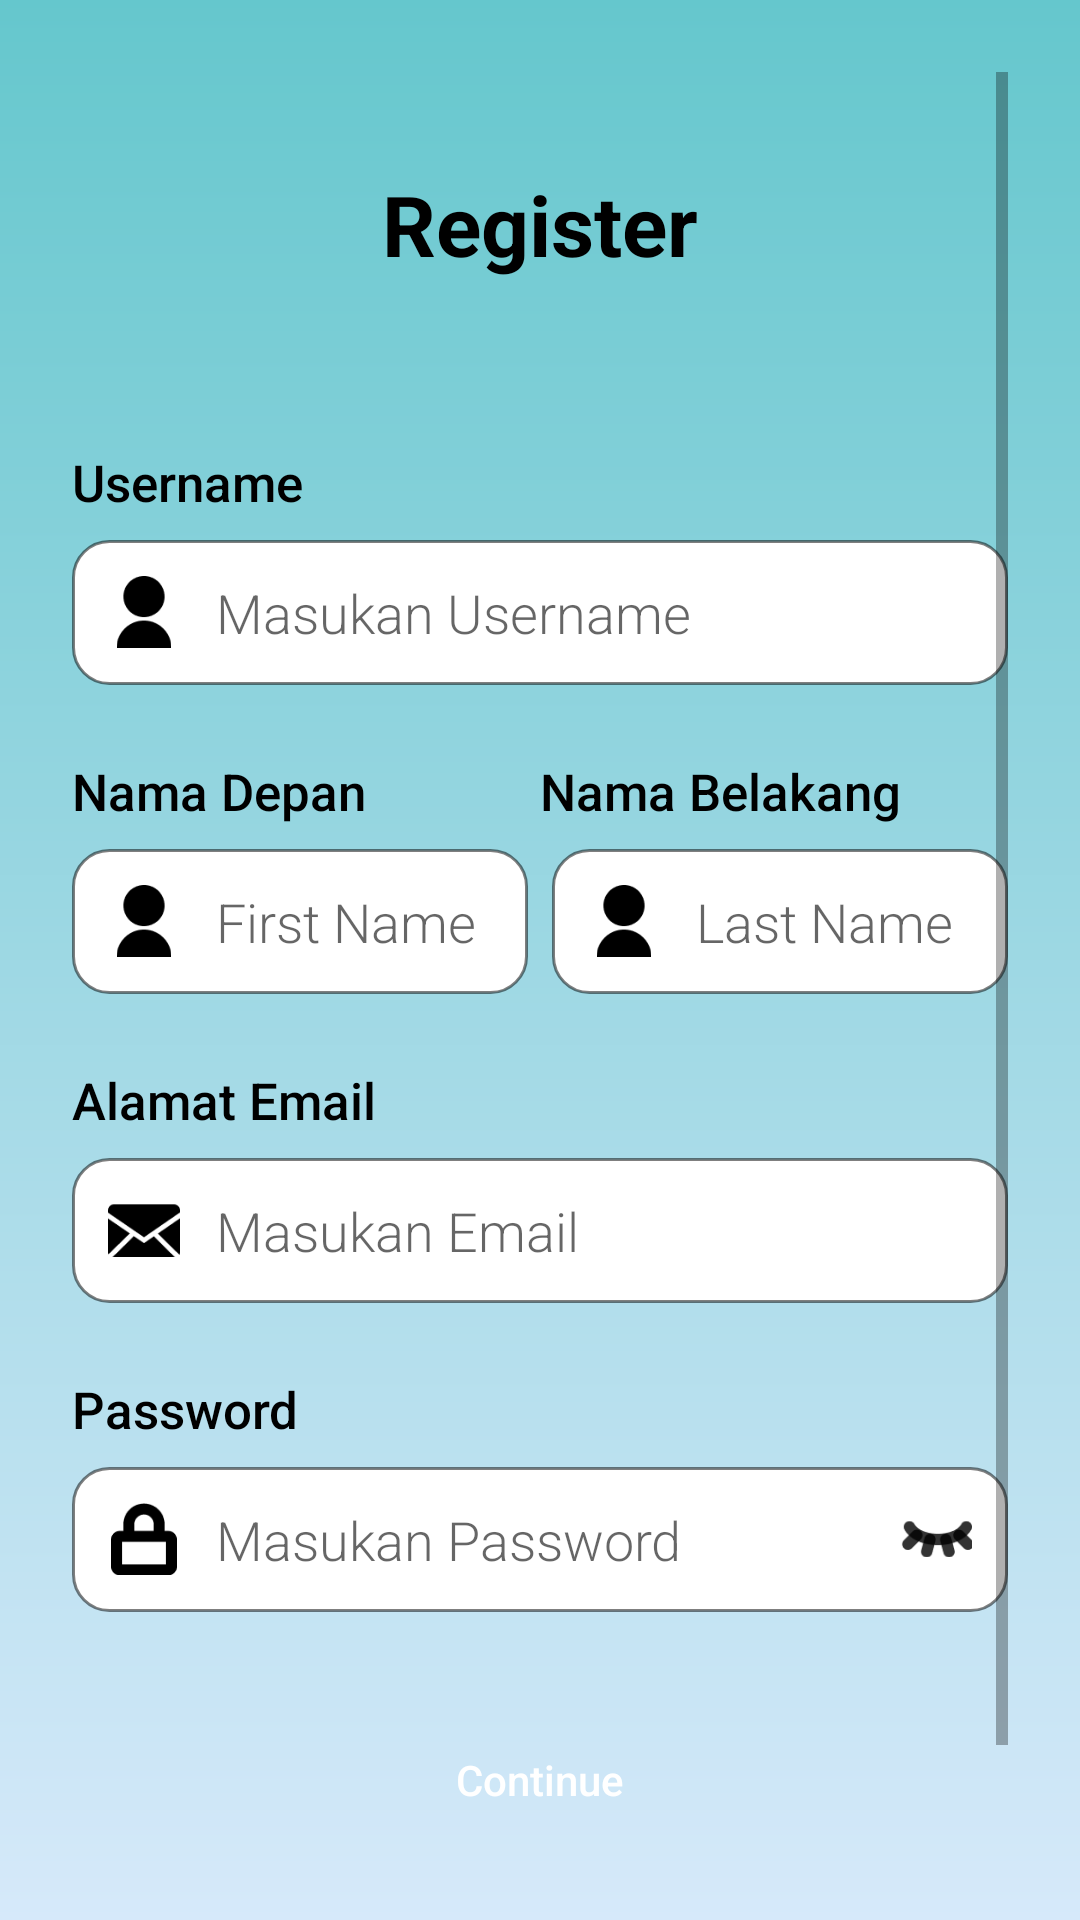

Icon bounding boxes for this 1080x1920 phone screenshot, format (x1, y1, x2, y2):
eye: (902, 1521, 972, 1557)
lock: (111, 1503, 177, 1575)
